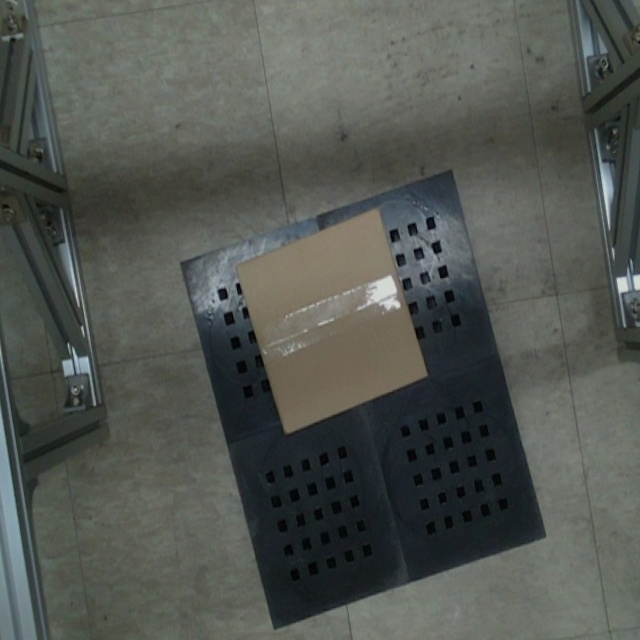box: (229, 201, 432, 442)
pallet: (157, 139, 568, 640)
